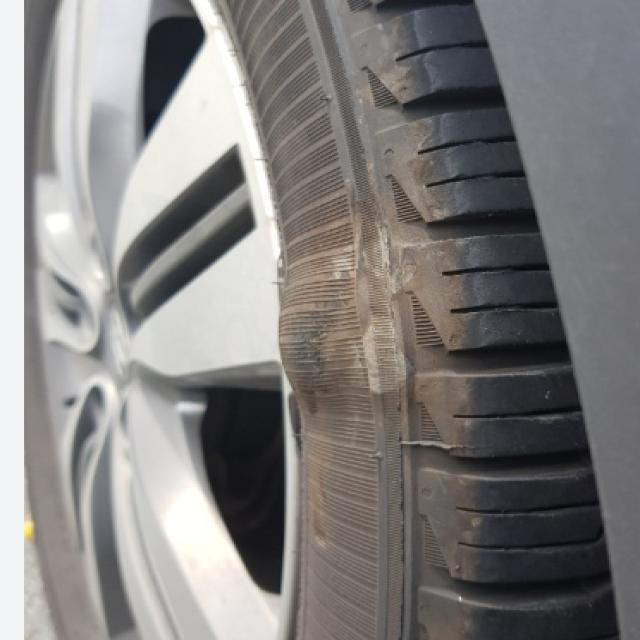Bulge: (260, 222, 450, 406)
